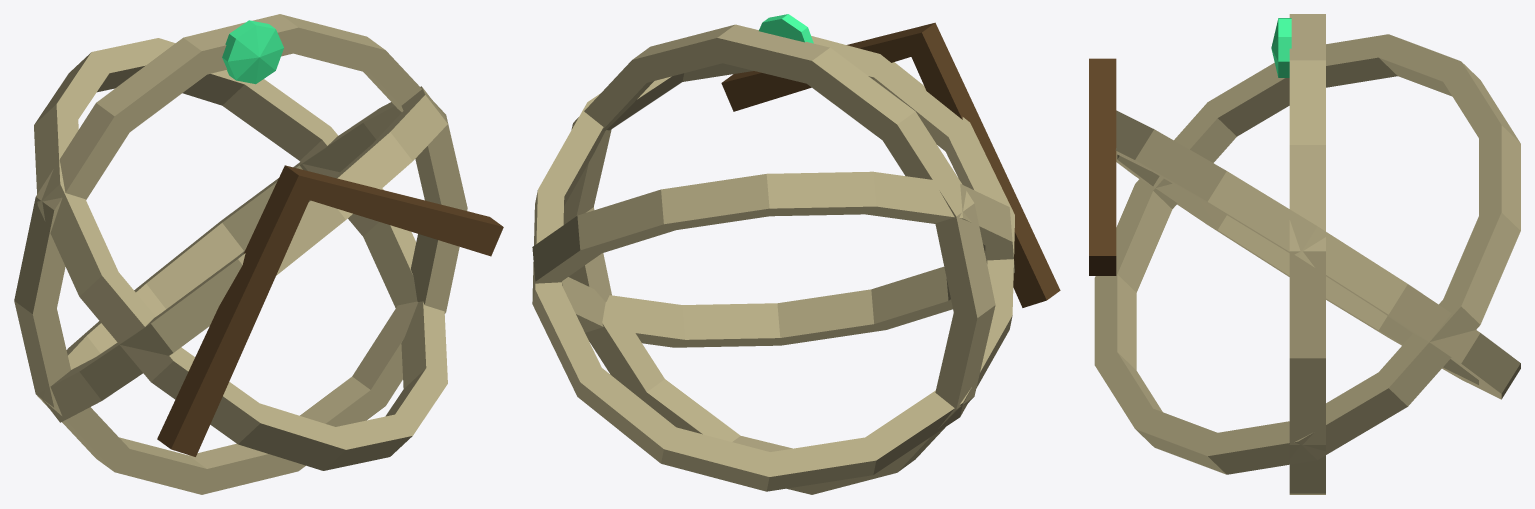
Rendered from dragon_armillary_shell.obj.
3 renders of one model, left to right at view 1: azimuth 30°, elevation 25°; view 2: azimuth 150°, elevation 25°; view 3: azimuth 270°, elevation 25°, orthographic. The views are drawn at different scales.
Parts seen in each view (by area): view 1: armillary_0_armillary_ring, armillary_2_armillary_ring, armillary_1_armillary_ring, dragon_spine, dragon_spine_edge, armillary_gem; view 2: armillary_2_armillary_ring, armillary_0_armillary_ring, armillary_1_armillary_ring, dragon_spine, dragon_spine_edge, armillary_gem; view 3: armillary_2_armillary_ring, armillary_1_armillary_ring, armillary_0_armillary_ring, dragon_spine_edge, armillary_gem.
Part boxes in pixels (bbox=[...]): armillary_0_armillary_ring: bbox=[14, 14, 467, 494]; armillary_2_armillary_ring: bbox=[34, 38, 447, 470]; armillary_1_armillary_ring: bbox=[37, 86, 447, 422]; dragon_spine: bbox=[171, 175, 503, 456]; dragon_spine_edge: bbox=[157, 165, 502, 448]; armillary_gem: bbox=[222, 20, 283, 84]; armillary_2_armillary_ring: bbox=[532, 171, 1014, 347]; armillary_0_armillary_ring: bbox=[563, 24, 995, 494]; armillary_1_armillary_ring: bbox=[532, 36, 1014, 491]; dragon_spine: bbox=[721, 32, 1046, 307]; dragon_spine_edge: bbox=[722, 22, 1060, 299]; armillary_gem: bbox=[759, 14, 813, 43]; armillary_2_armillary_ring: bbox=[1094, 34, 1520, 474]; armillary_1_armillary_ring: bbox=[1115, 110, 1520, 399]; armillary_0_armillary_ring: bbox=[1289, 14, 1325, 494]; dragon_spine_edge: bbox=[1089, 58, 1116, 275]; armillary_gem: bbox=[1271, 18, 1291, 77].
Bounding box in the file's own units: 1.08 × 1.1 × 0.9477.
